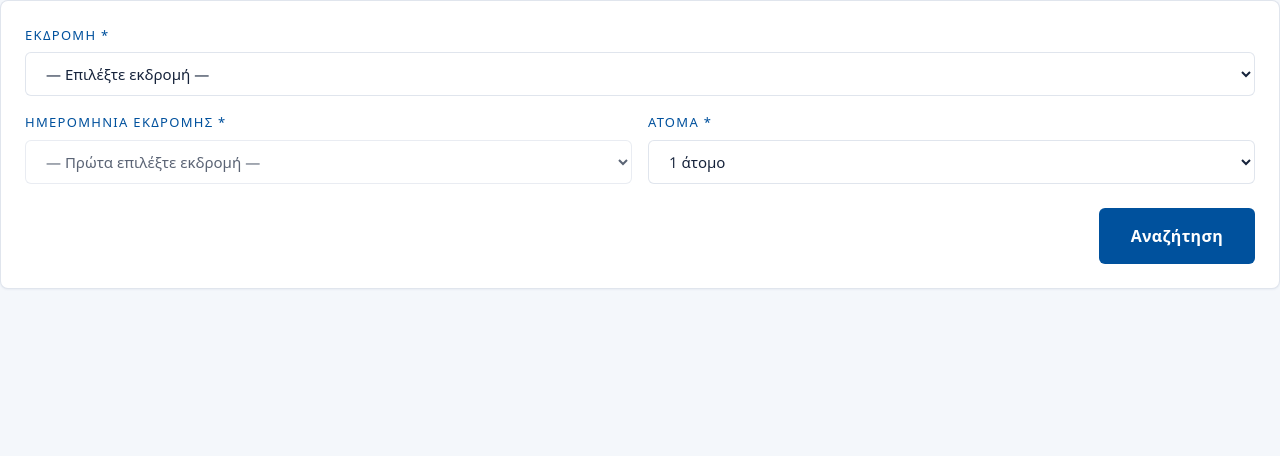
Test case: ExcursionSearchForm › υποβολή με εκδρομή αλλά χωρίς ημερομηνία δείχνει σφάλμα
Step 1. Select "Λιχαδονήσια" in the dropdown labelled "Εκδρομή *" → (640, 74), box top-left (25, 52), bottom-right (1255, 96)
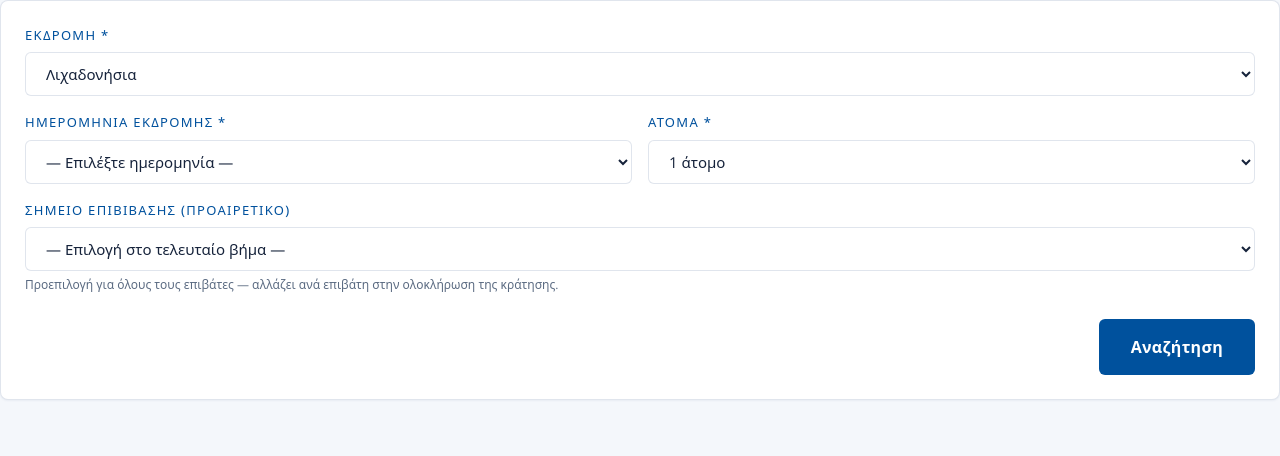
Step 2. Click the button "Αναζήτηση" → (1177, 347), box top-left (1099, 319), bottom-right (1255, 375)
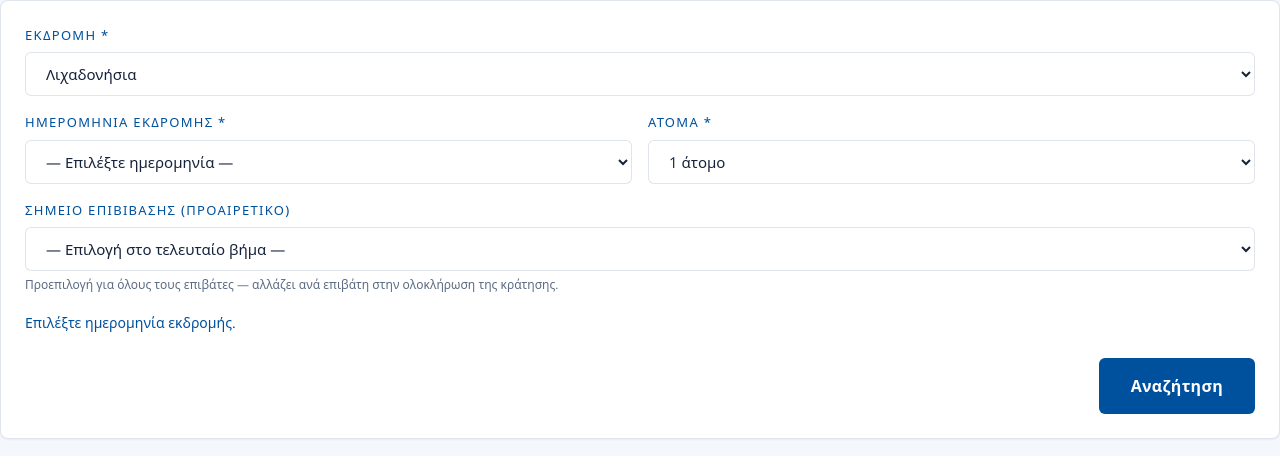
Check: the text "Επιλέξτε ημερομηνία εκδρομής." is shown, box top-left (25, 313), bottom-right (236, 332)
